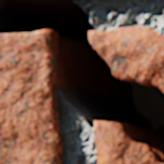brick: (0, 31, 63, 163), (0, 0, 46, 2)
broken_brick: (89, 27, 163, 91), (95, 121, 163, 163)
crack: (0, 0, 163, 161)
